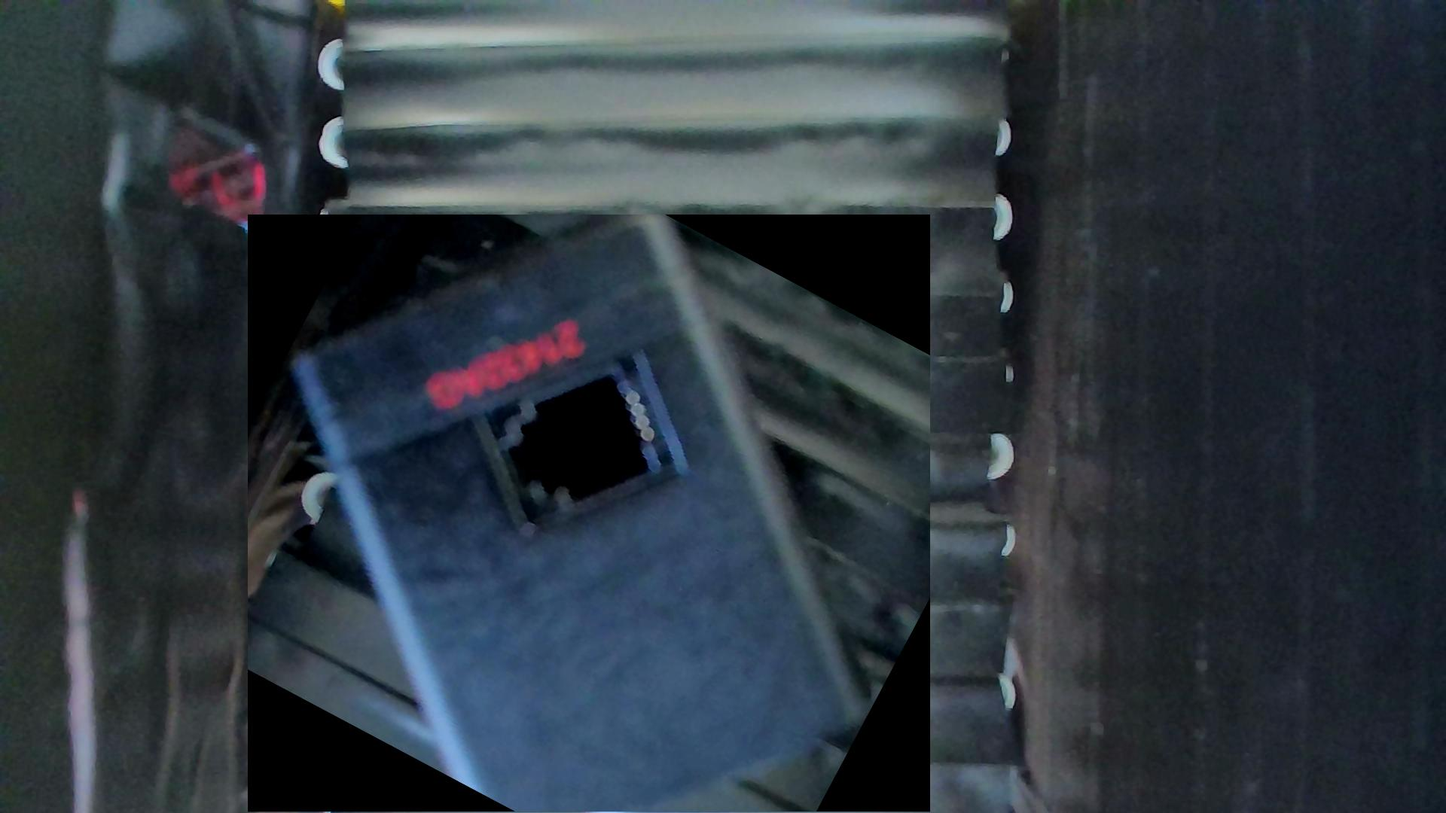motor: (248, 215, 930, 813)
